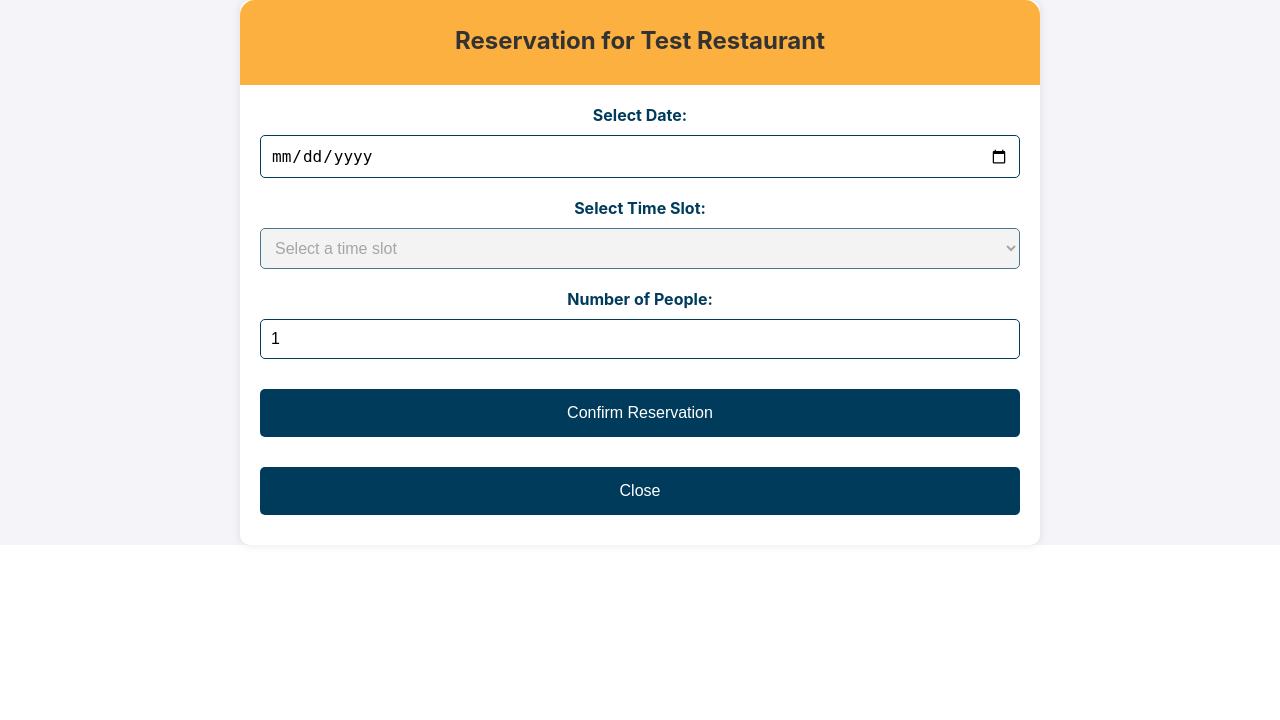
Scenario: ReservationPage › generates correct time slots
Type "2024-10-03" into the date field labelled "Select Date:".
click(640, 157); type("2024-10-03")  # box x1=260 y1=135 x2=1020 y2=178
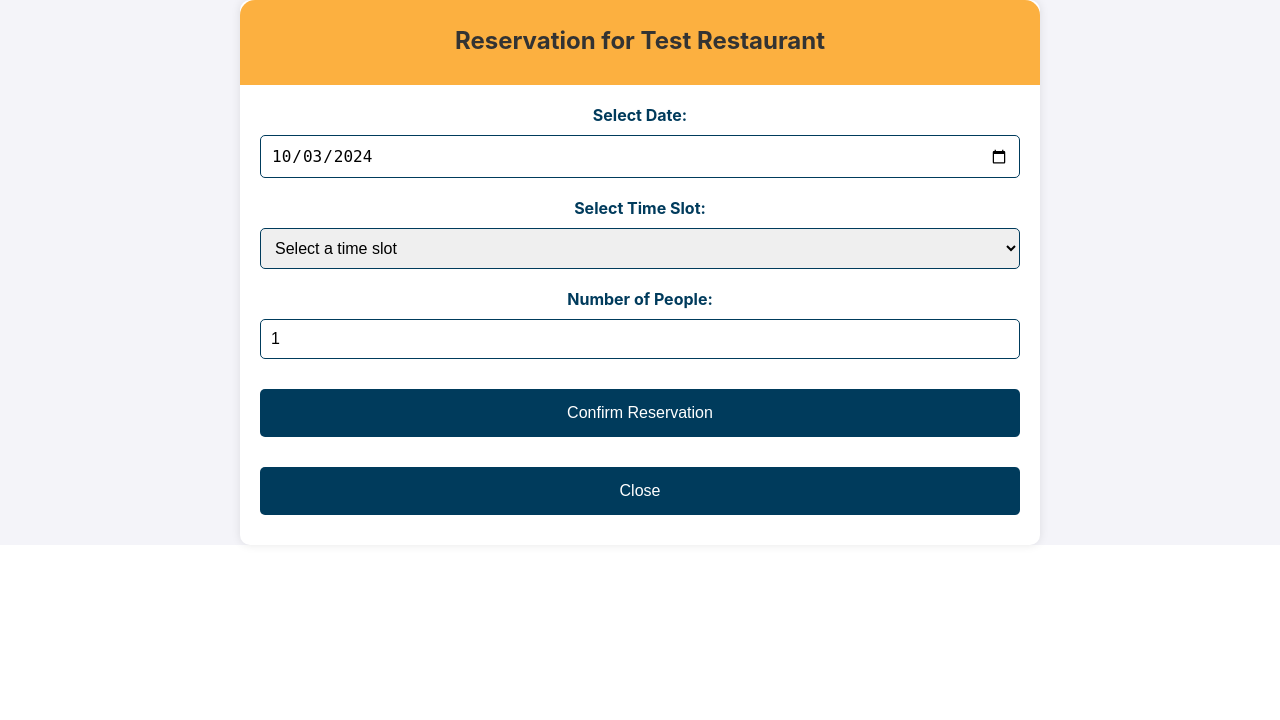
Expected: the dropdown labelled "Select Time Slot:" is enabled, x1=260 y1=228 x2=1020 y2=269
